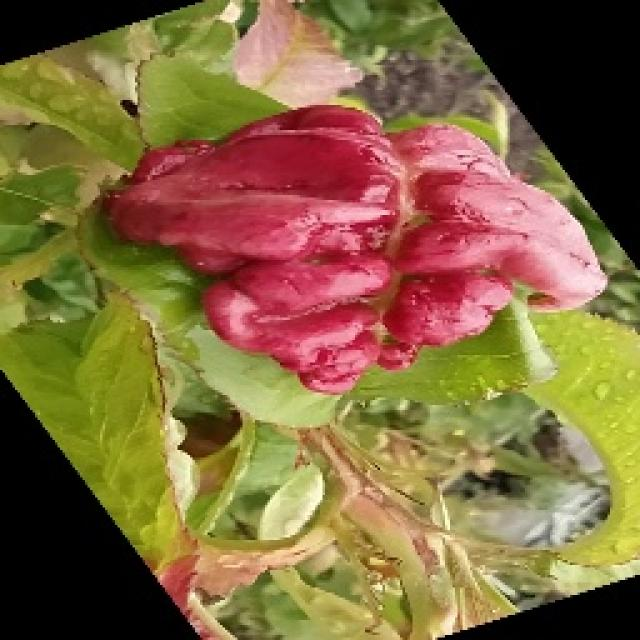peach_leaf_curl: (102, 100, 608, 398)
